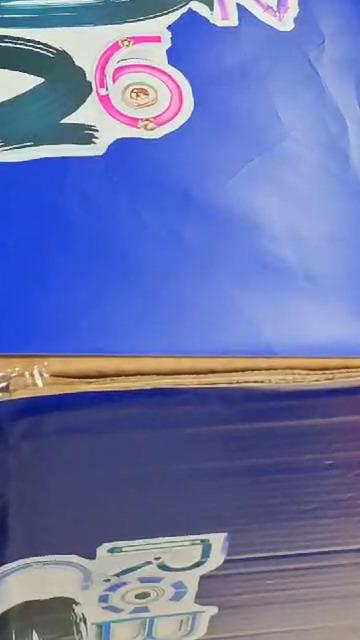B_R1: (0, 0, 320, 171)
